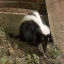skunk: (18, 12, 52, 48)
